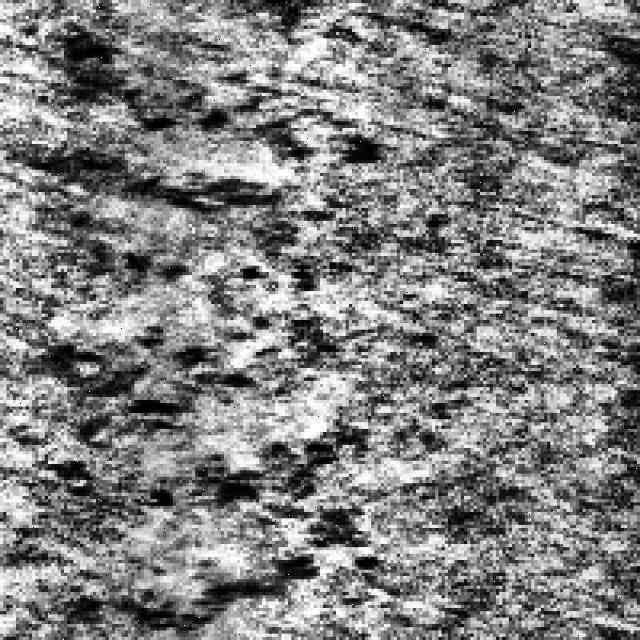Crazing: (73, 252, 340, 628), (70, 32, 378, 218)
